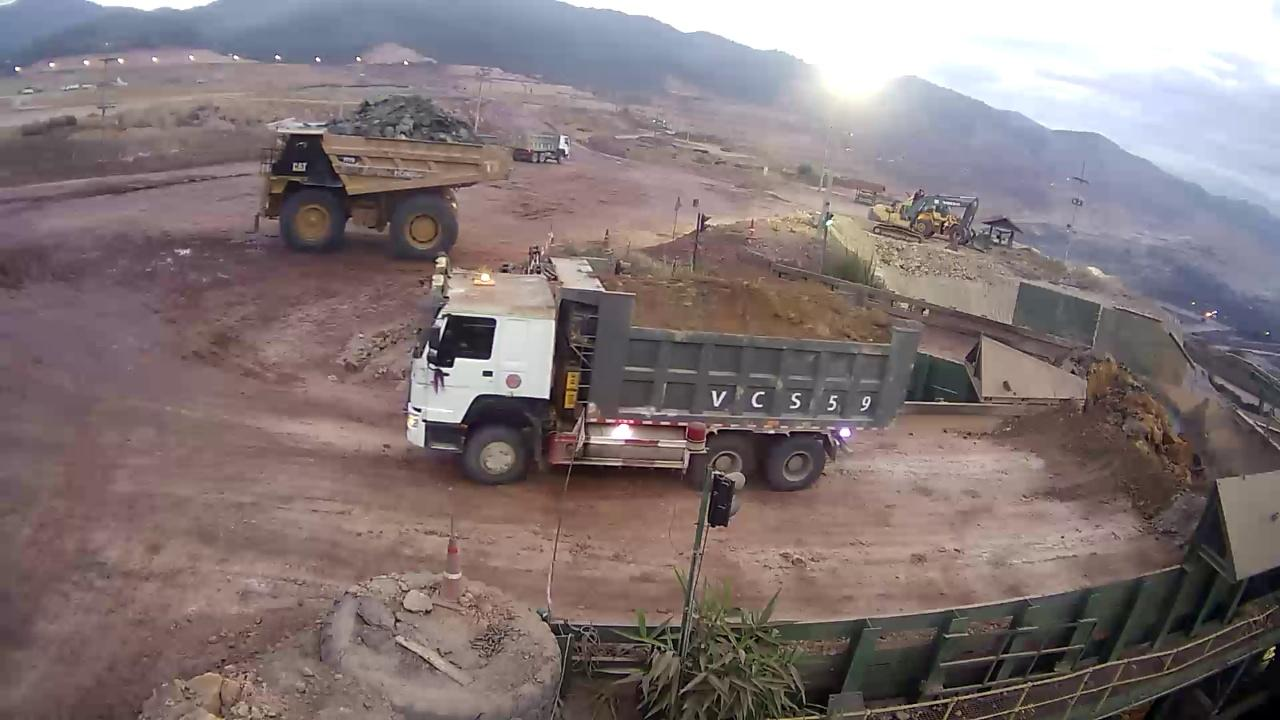full_load: (331, 91, 487, 147)
mining_truck: (254, 92, 519, 263)
tail_number: (481, 158, 507, 177)
